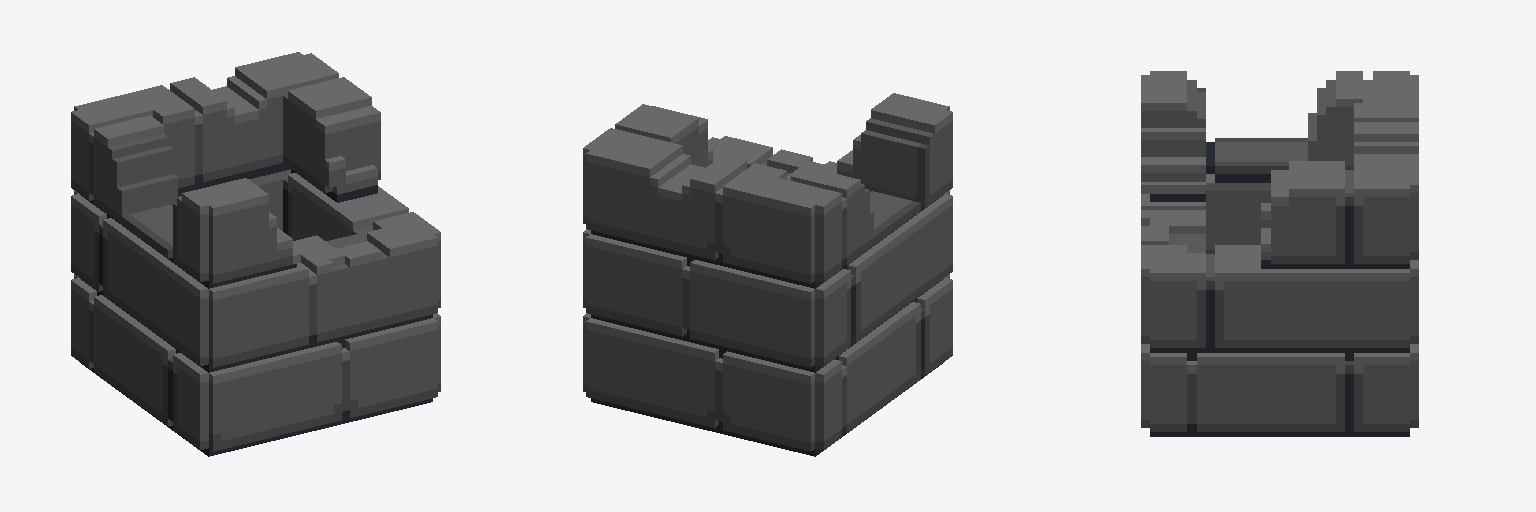
The picture shows the model from 3 angles: view 1: azimuth 30°, elevation 25°; view 2: azimuth 150°, elevation 25°; view 3: azimuth 270°, elevation 25°; orthographic projection.
Visible parts, largest first — view 1: object 1; view 2: object 1; view 3: object 1.
Part boxes in pixels (bbox=[...]): object 1: bbox=[71, 52, 440, 456]; object 1: bbox=[583, 93, 952, 456]; object 1: bbox=[1141, 71, 1418, 436].
Bounding box in the file's own units: 3 × 3 × 3.
1 materials, 1 textured.